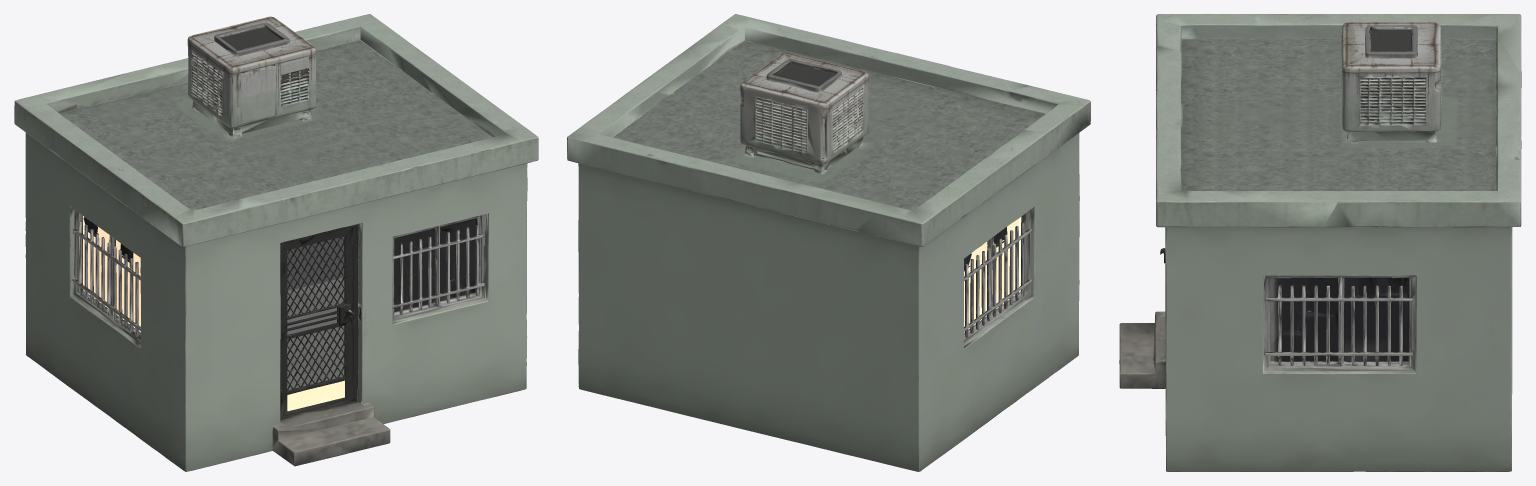
File: house-flat-roof.glb
3 renders of one model, left to right at view 1: azimuth 30°, elevation 25°; view 2: azimuth 150°, elevation 25°; view 3: azimuth 270°, elevation 25°, orthographic. The views are drawn at different scales.
Size of the model in its own units: 4.23 by 3.6 by 3.82.
Materials: 4 (4 with a texture image).
